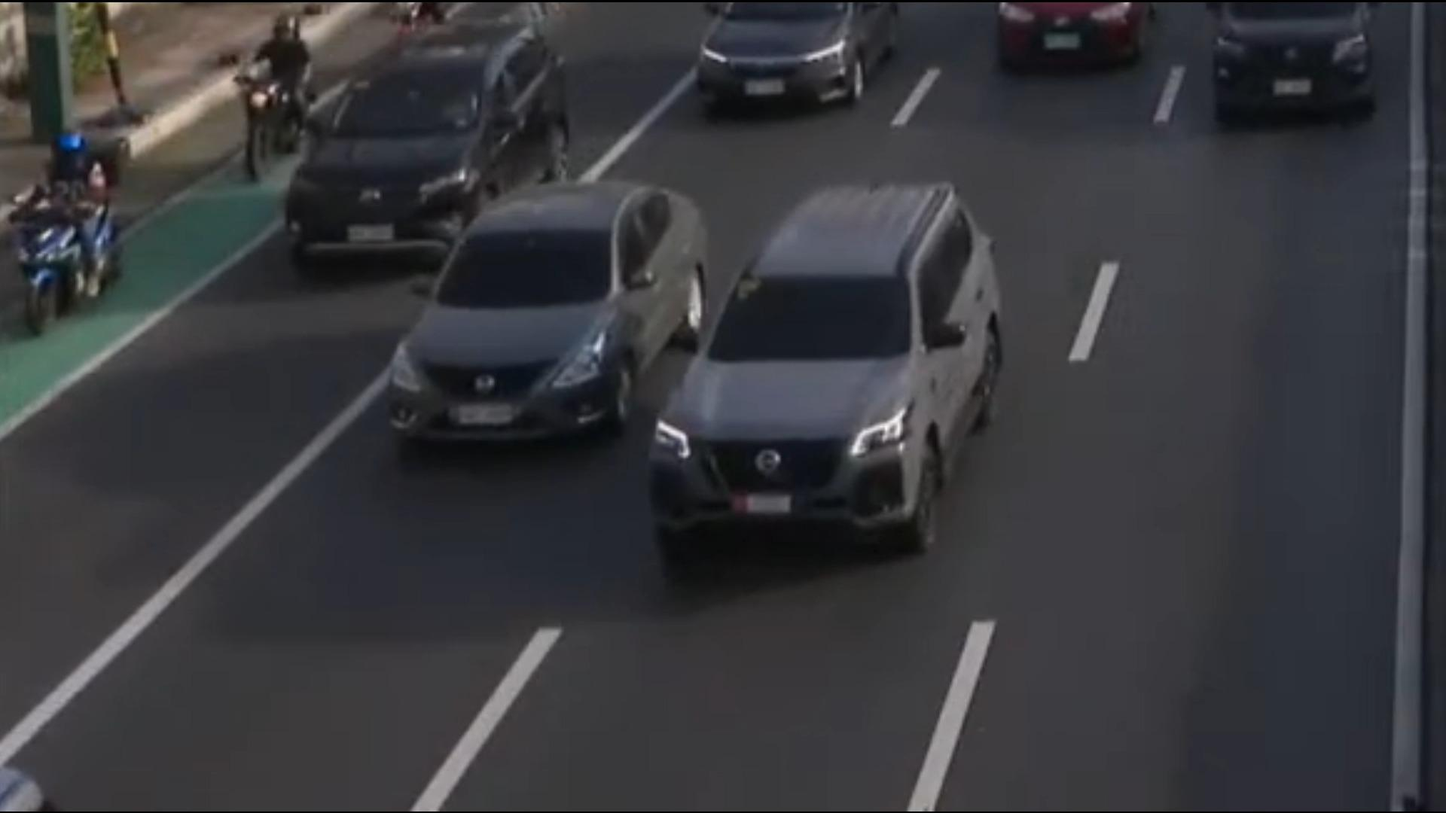Motorcycle: (0, 102, 159, 382), (203, 10, 336, 182)
SUV: (644, 164, 1072, 582), (257, 0, 586, 305)
Sedan: (346, 172, 738, 484)
